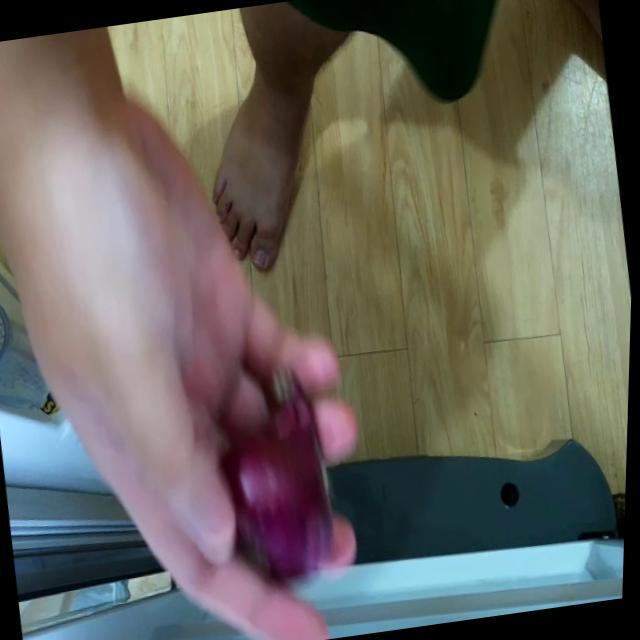onion: (215, 400, 352, 586)
